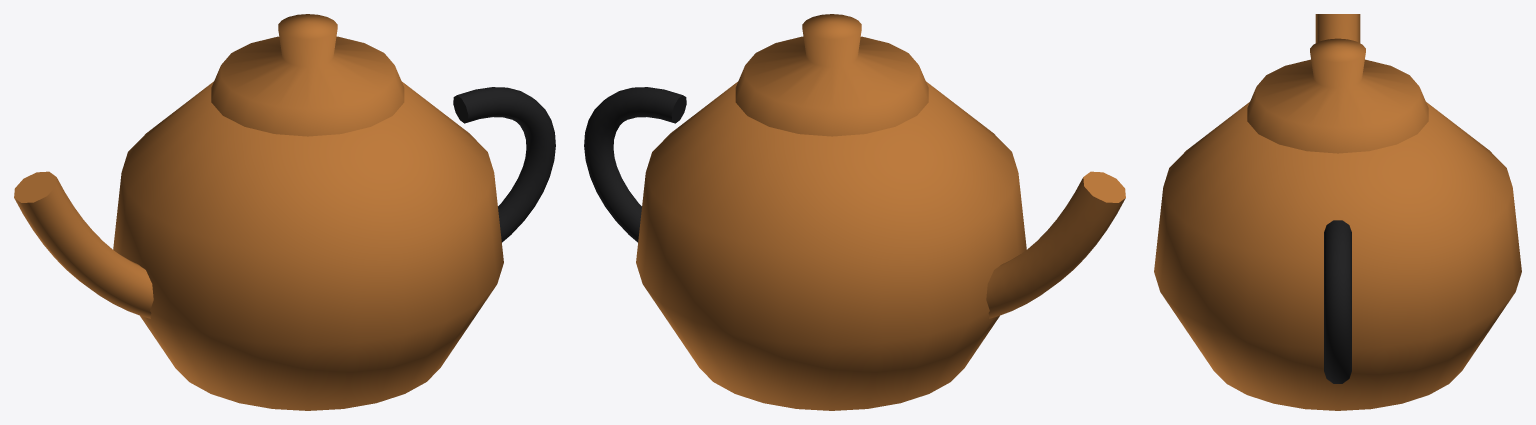
File: i_teapot_4.glb
3 renders of one model, left to right at view 1: azimuth 30°, elevation 25°; view 2: azimuth 150°, elevation 25°; view 3: azimuth 270°, elevation 25°, orthographic. The views are drawn at different scales.
Visible parts, largest first — view 1: o, o.001, o.002, o.003; view 2: o, o.001, o.002, o.003; view 3: o, o.001, o.003, o.002.
Boxes of the visible parts, x1=… form: o: x1=113, y1=81, x2=503, y2=410; o.001: x1=211, y1=14, x2=404, y2=136; o.002: x1=14, y1=171, x2=153, y2=318; o.003: x1=453, y1=87, x2=555, y2=242; o: x1=636, y1=81, x2=1026, y2=410; o.001: x1=735, y1=14, x2=928, y2=136; o.002: x1=986, y1=171, x2=1125, y2=318; o.003: x1=584, y1=87, x2=686, y2=242; o: x1=1154, y1=102, x2=1521, y2=410; o.001: x1=1247, y1=38, x2=1428, y2=153; o.003: x1=1324, y1=220, x2=1351, y2=383; o.002: x1=1315, y1=14, x2=1360, y2=42.
Size of the model in its own units: 0.2871 by 0.169 by 0.182.
